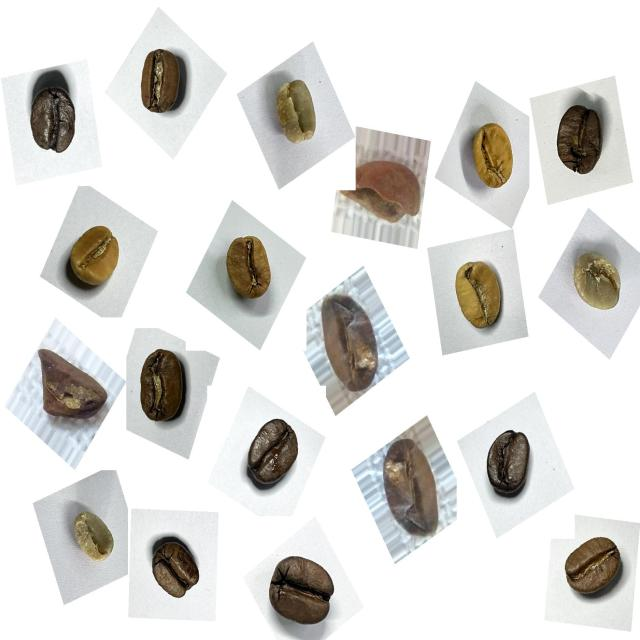bad: (307, 285, 389, 397), (372, 432, 449, 539), (32, 339, 112, 432), (348, 149, 424, 237)
dark: (264, 540, 343, 629), (20, 73, 92, 168), (239, 404, 311, 498), (474, 422, 542, 510)
green: (213, 222, 289, 318), (558, 240, 631, 328), (259, 67, 329, 156), (61, 500, 124, 575)
light: (439, 244, 516, 342), (455, 108, 527, 204), (57, 213, 131, 305)
medium: (127, 344, 200, 438), (554, 525, 632, 611), (546, 97, 616, 189), (140, 528, 210, 610), (130, 40, 196, 122)
